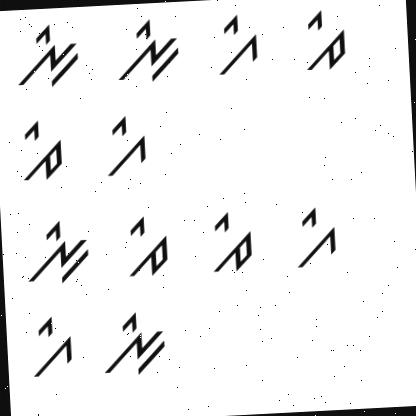gi: (23, 311, 80, 382), (286, 201, 341, 272), (98, 110, 152, 182), (207, 10, 262, 78)
ngi: (16, 214, 95, 291), (96, 305, 174, 380), (8, 19, 84, 93), (107, 14, 185, 84)
ti: (296, 5, 358, 76), (204, 206, 258, 276), (15, 116, 70, 182), (120, 216, 171, 280)
